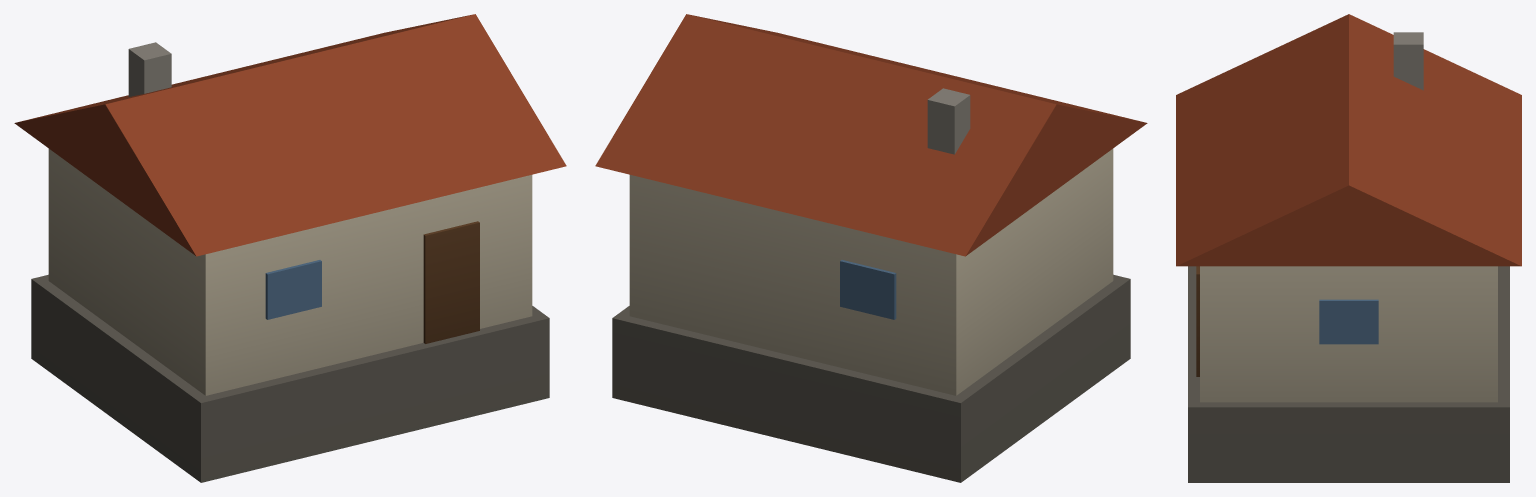
Rendered from casinha_de_sitio.glb.
3 renders of one model, left to right at view 1: azimuth 30°, elevation 25°; view 2: azimuth 150°, elevation 25°; view 3: azimuth 270°, elevation 25°, orthographic. The views are drawn at different scales.
Parts seen in each view (by area): view 1: casinha_de_sitio_liso; view 2: casinha_de_sitio_liso; view 3: casinha_de_sitio_liso.
Part boxes in pixels (x1=…): casinha_de_sitio_liso: x1=14, y1=14, x2=566, y2=482; casinha_de_sitio_liso: x1=595, y1=14, x2=1147, y2=482; casinha_de_sitio_liso: x1=1176, y1=14, x2=1521, y2=482.
Size of the model in its own units: 6.8 by 5.8 by 5.8.
